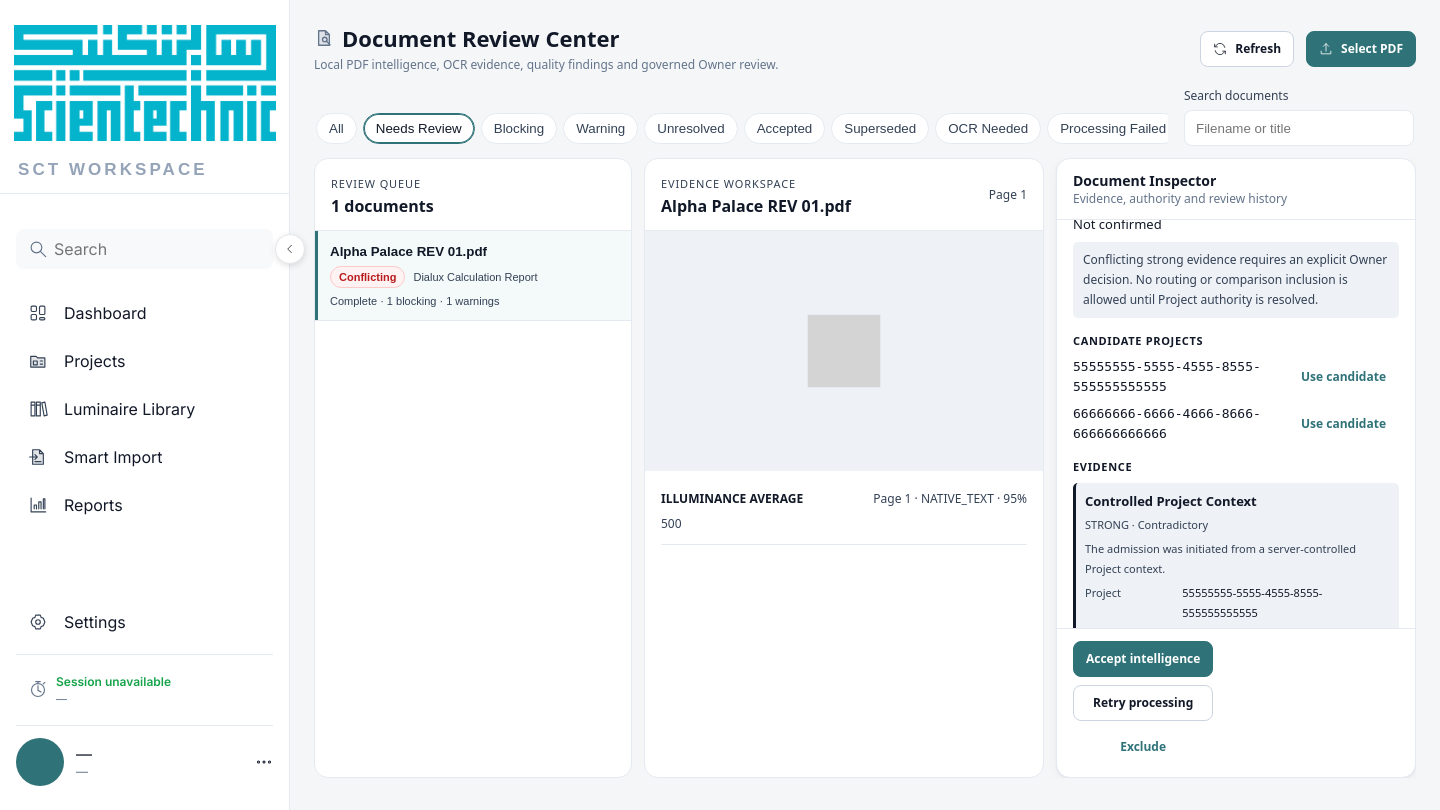
Test case: Document Review Center › shows conflicting strong evidence and refreshes authority after a stale association decision
The width and height of the screenshot is (1440, 810).
(page scrolled)
Expected: the text "Controlled Project Context" is shown, x1=1085 y1=492 x2=1257 y2=510
Click the button "Use candidate" next to "66666666-6666-4666-8666-666666666666": (1344, 424) x1=1288 y1=406 x2=1399 y2=442
(page scrolled)
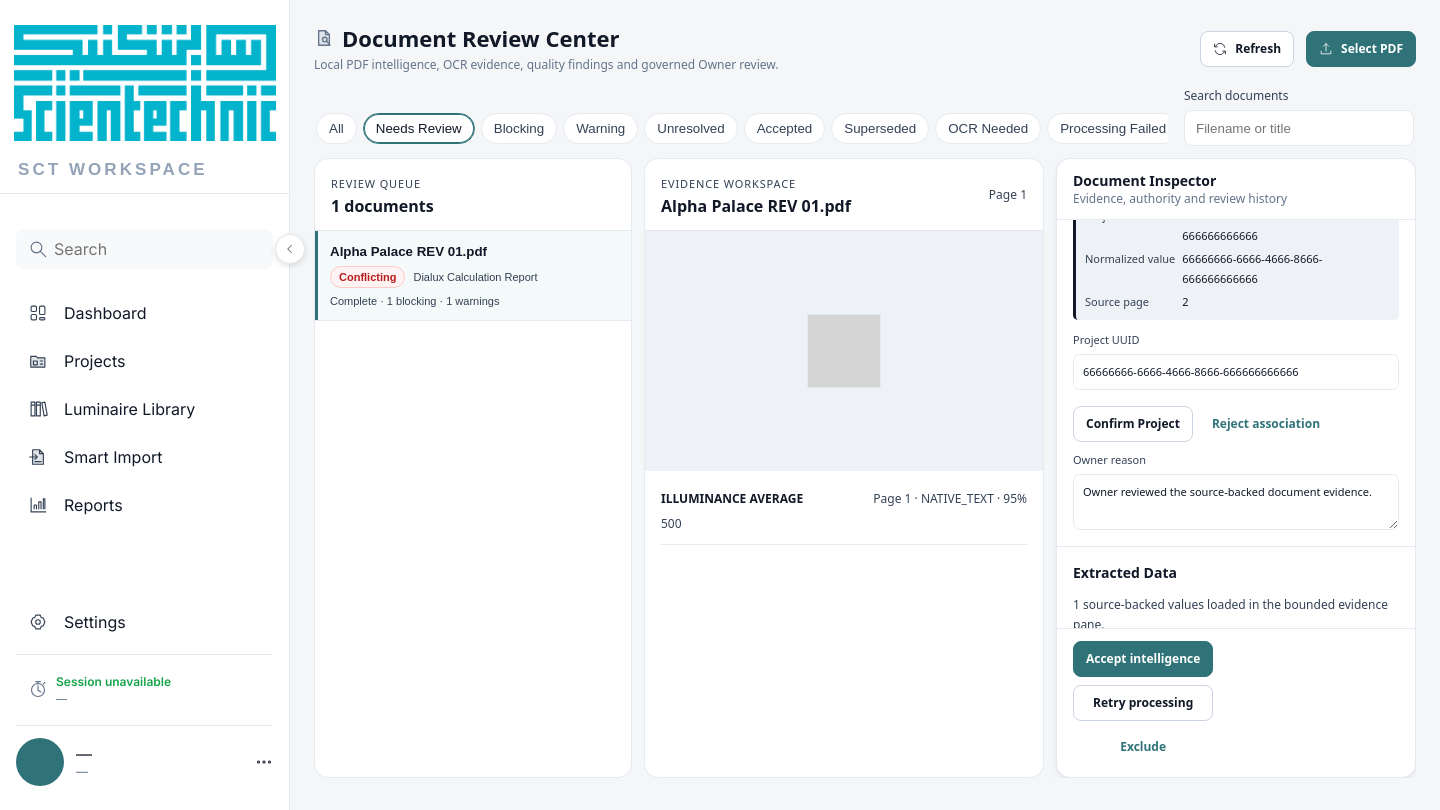
Click the button "Confirm Project": (1133, 424) x1=1073 y1=406 x2=1193 y2=442
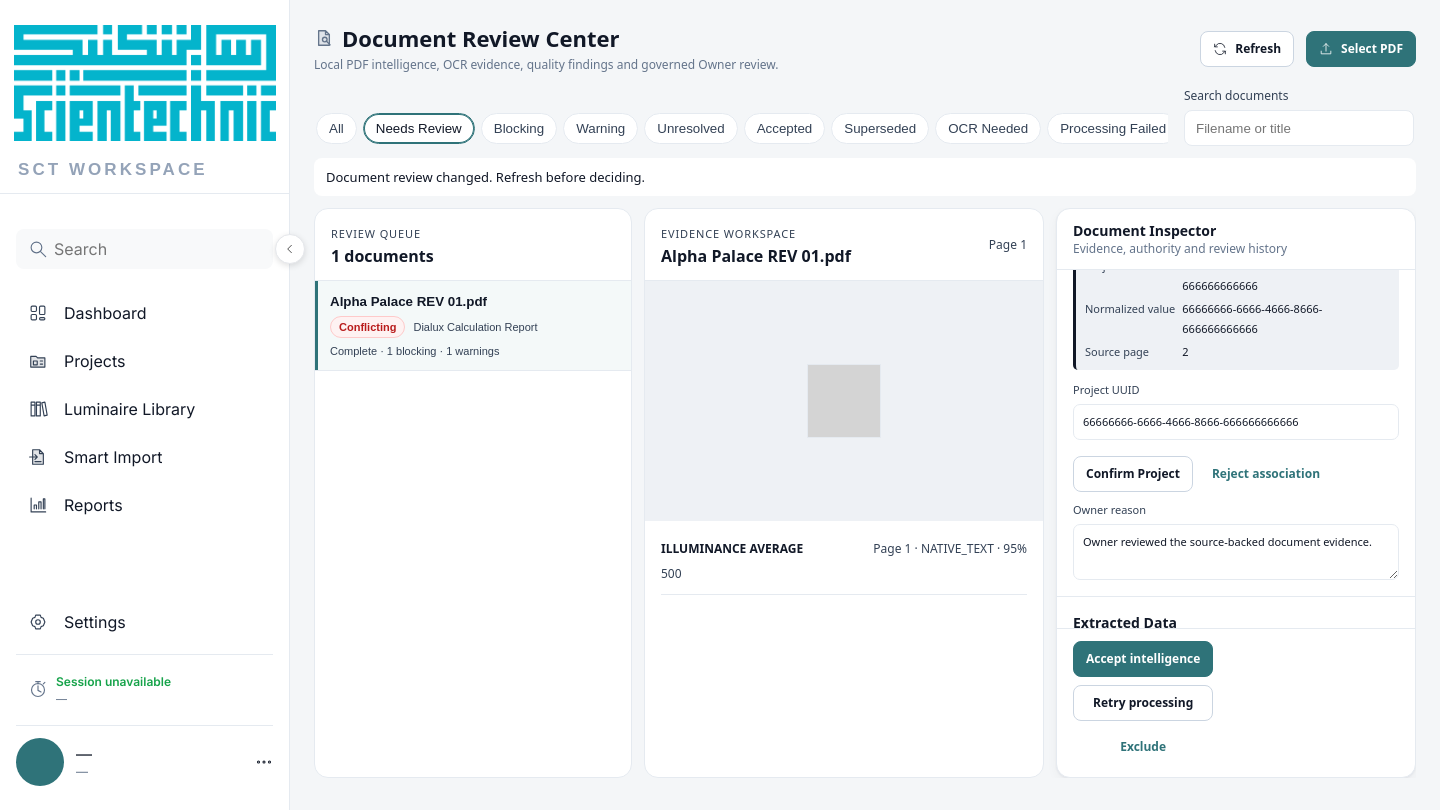
Expected: the message shows "Refresh before deciding", x1=326 y1=168 x2=645 y2=186
